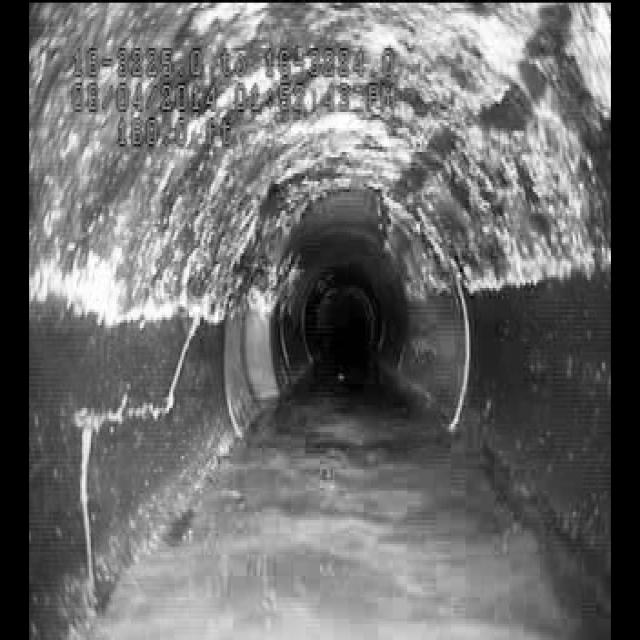Crack: (65, 324, 200, 540)
